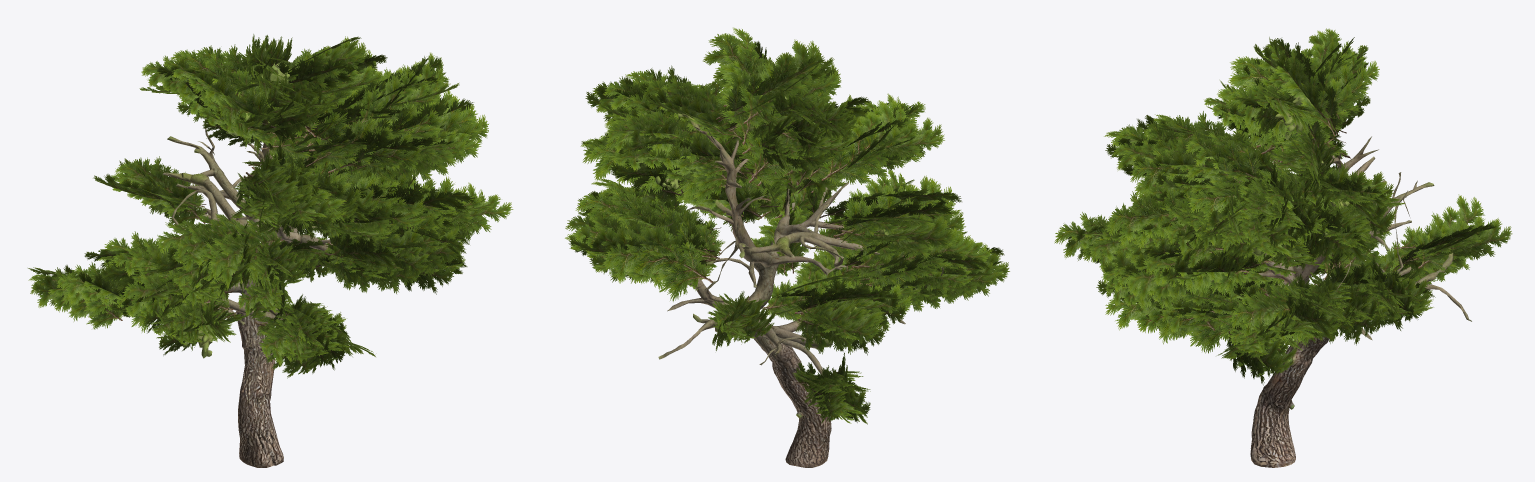
The model's file is peuko_planes_dense_v2.fbx.
3 views of the same model, side by side, from view 1: azimuth 30°, elevation 25°; view 2: azimuth 150°, elevation 25°; view 3: azimuth 270°, elevation 25° (orthographic).
Parts seen in each view (by area): view 1: Pine_Needles, Trunk_and_Branches; view 2: Pine_Needles, Trunk_and_Branches; view 3: Pine_Needles, Trunk_and_Branches.
Part boxes in pixels (x1,y1,x2,y2): Pine_Needles: (28, 34, 513, 378); Trunk_and_Branches: (105, 62, 369, 467); Pine_Needles: (565, 27, 1009, 424); Trunk_and_Branches: (623, 96, 958, 467); Pine_Needles: (1054, 28, 1512, 385); Trunk_and_Branches: (1209, 96, 1471, 467).
Bounding box in the file's own units: 2.08 × 2.07 × 2.01.
Materials: 2 (2 with a texture image).
